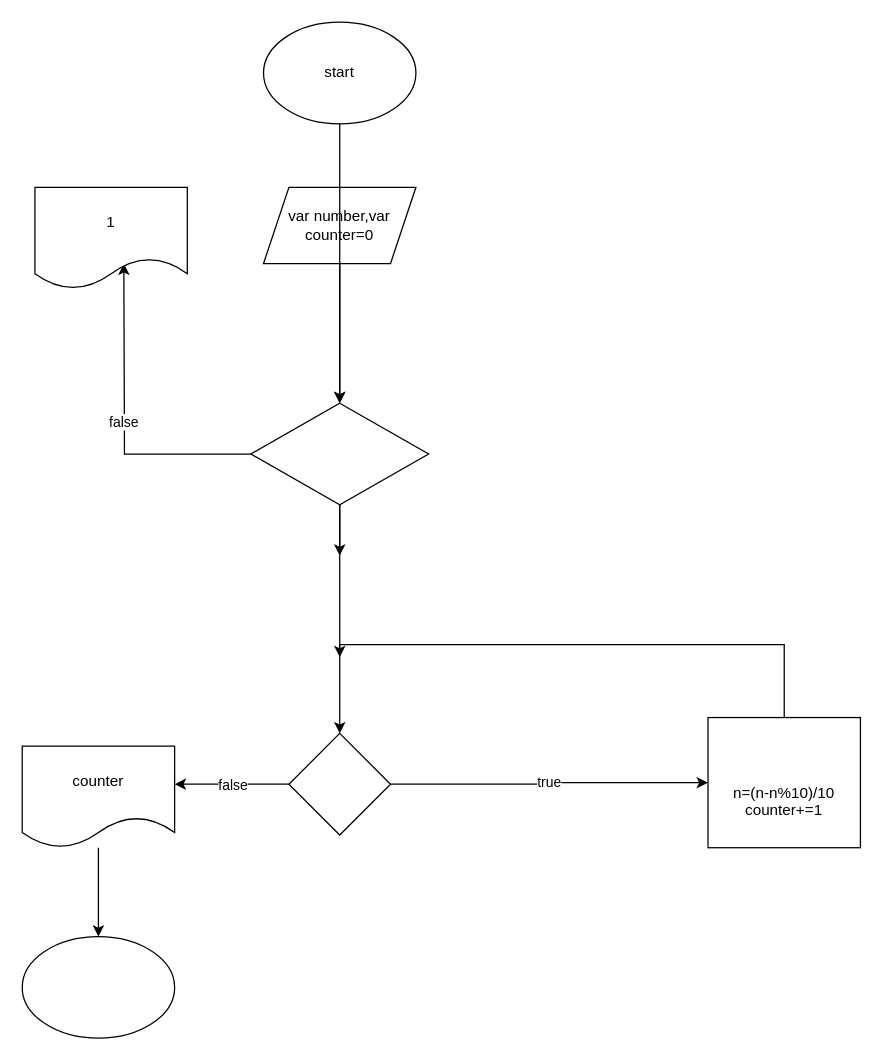
Some shapes in this 883 by 1060 pixel diagram are drawn without their labels. The centre of each missing label's shape, as x and y in pixels:
"end" goes at pixel 98 986.
"n!=0" goes at pixel 339 453.
"number>0" goes at pixel 339 783.
